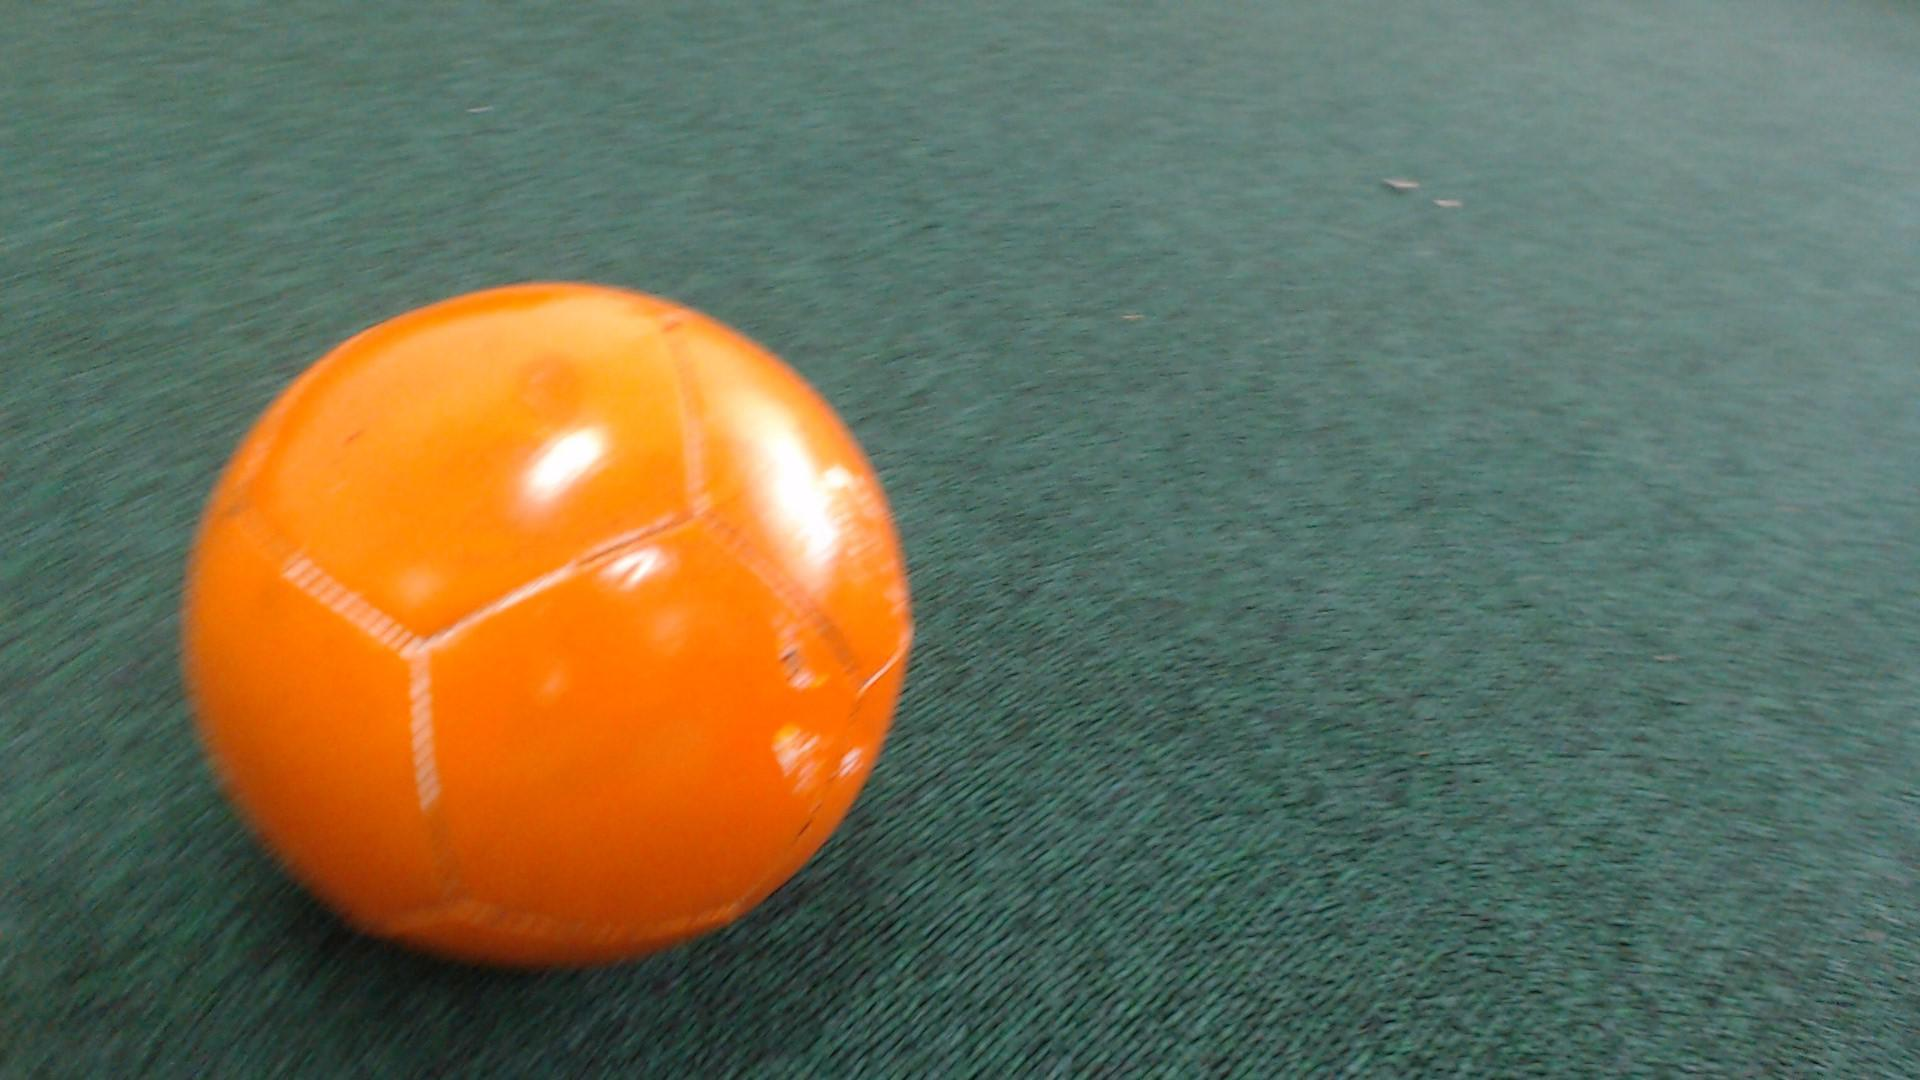bola: (141, 219, 960, 1033)
